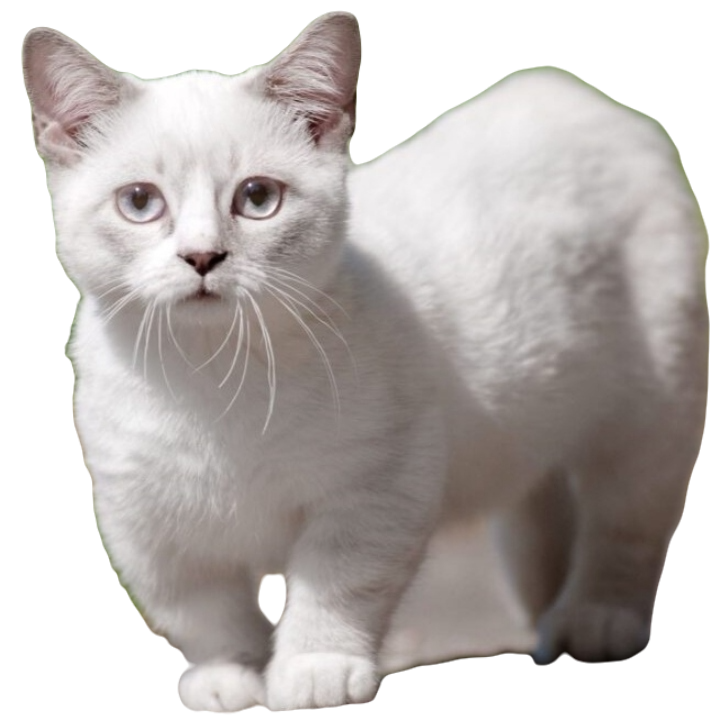Cat: (15, 14, 719, 710)
